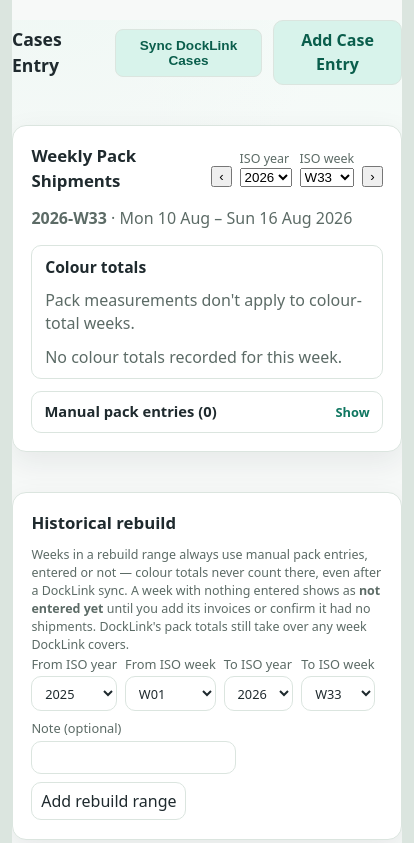
Test: desktop Sync DockLink Cases — pinned behaviour › a pack export DockLink hasn't deployed yet is reported, not shown as an error
Click the button "Sync DockLink Cases". click: (188, 52)
box: [115,28,262,76]
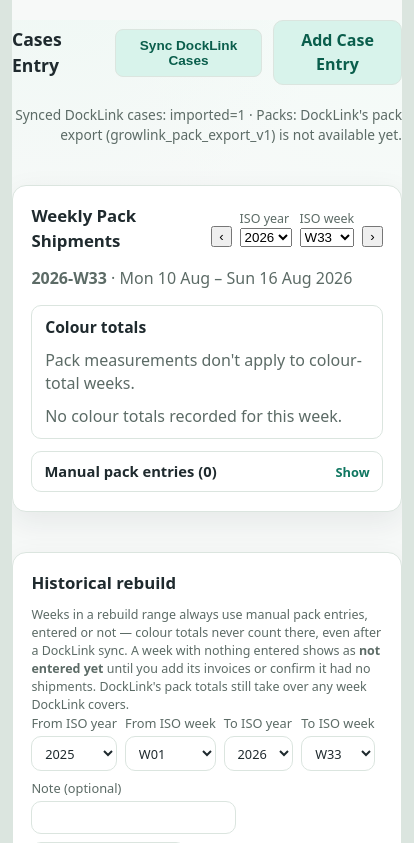
Result: the message shows "Packs: DockLink's pack export (growlink_pack_export_v1) is not available yet." at [15,105,402,144]
